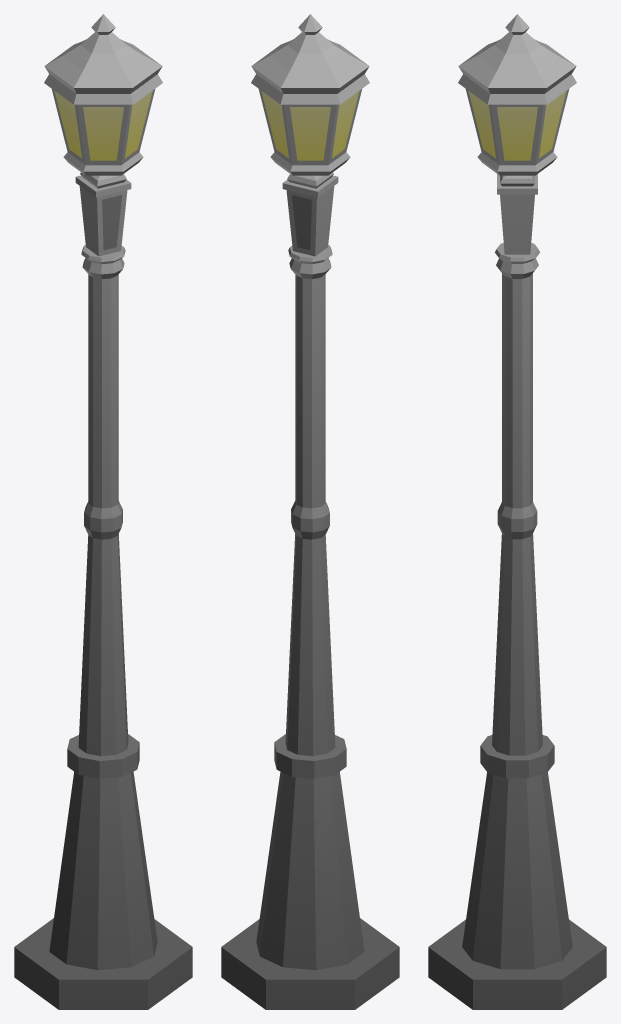
The model's file is lamppost 3.fbx.
3 renders of one model, left to right at view 1: azimuth 30°, elevation 25°; view 2: azimuth 150°, elevation 25°; view 3: azimuth 270°, elevation 25°, orthographic.
Parts seen in each view (by area): view 1: lamppost 3; view 2: lamppost 3; view 3: lamppost 3.
Part boxes in pixels (x1,y1,x2,y2): lamppost 3: (14, 14, 192, 1009); lamppost 3: (221, 14, 399, 1009); lamppost 3: (428, 14, 606, 1009).
Size of the model in its own units: 50.64 by 348 by 58.47.
